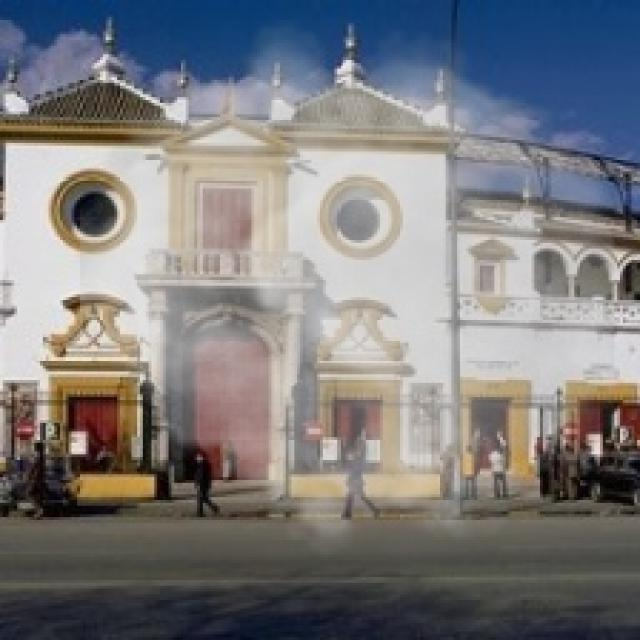Smoke: (80, 20, 614, 560)
